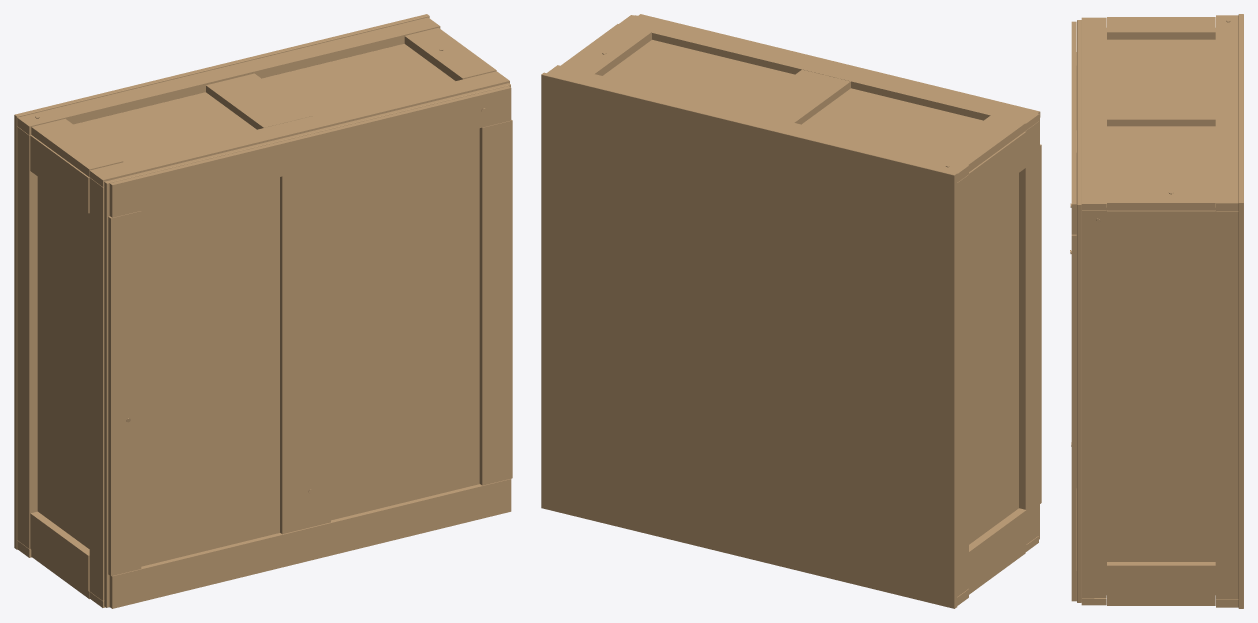
Rendered from nvidia_crate_barricade.glb.
3 renders of one model, left to right at view 1: azimuth 30°, elevation 25°; view 2: azimuth 150°, elevation 25°; view 3: azimuth 270°, elevation 25°, orthographic. The views are drawn at different scales.
Visible parts, largest first — view 1: sm_crate_a04_mesh_00; view 2: sm_crate_a04_mesh_00; view 3: sm_crate_a04_mesh_00.
Boxes of the visible parts, x1=… form: sm_crate_a04_mesh_00: x1=14, y1=14, x2=512, y2=608; sm_crate_a04_mesh_00: x1=541, y1=14, x2=1041, y2=608; sm_crate_a04_mesh_00: x1=1070, y1=14, x2=1243, y2=608.
Bounding box in the file's own units: 1.25 × 1.25 × 0.4846.
